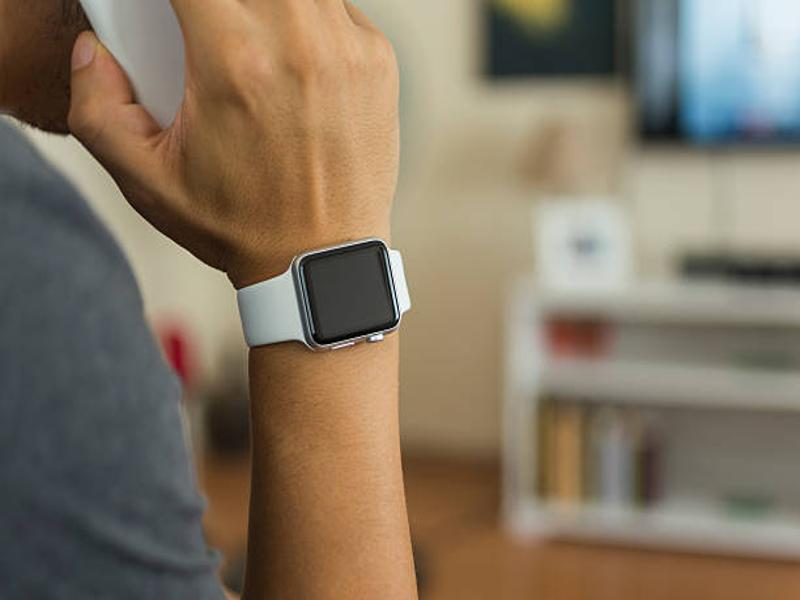watch: (231, 235, 414, 350)
